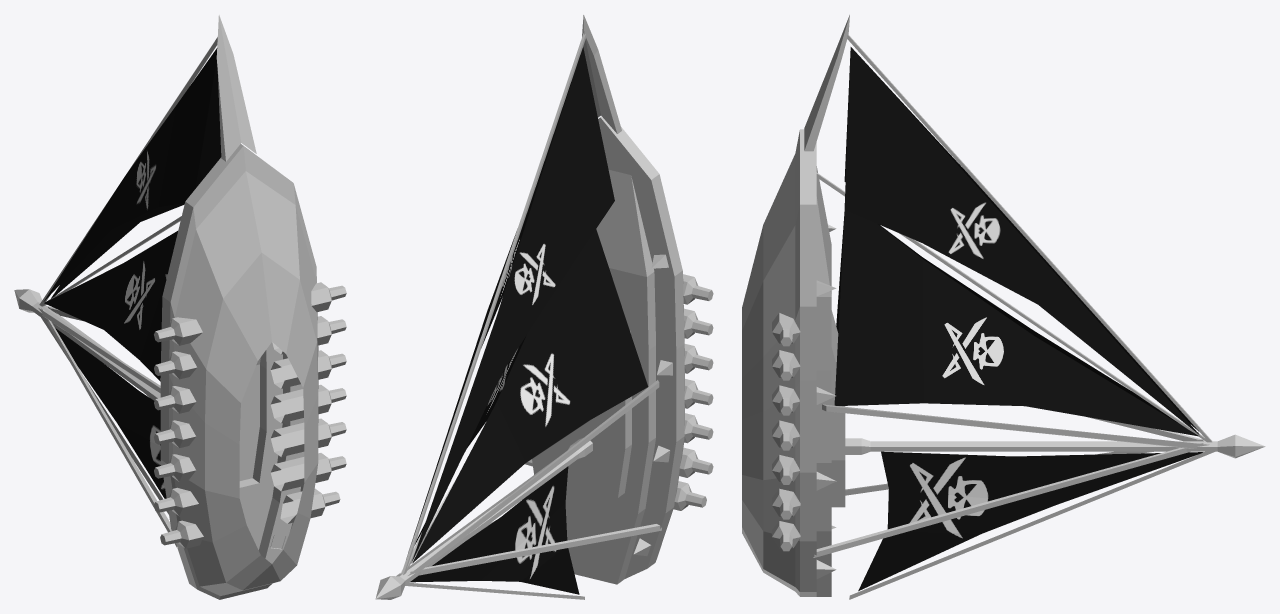
File: pirate_speed_my_9.fbx
3 views of the same model, side by side, from view 1: azimuth 30°, elevation 25°; view 2: azimuth 150°, elevation 25°; view 3: azimuth 270°, elevation 25° (orthographic).
Parts seen in each view (by area): view 1: Cube.245; view 2: Cube.245; view 3: Cube.245.
Boxes of the visible parts, x1,y1,x2,y2 form: Cube.245: [14, 15, 346, 599]; Cube.245: [375, 15, 713, 599]; Cube.245: [742, 15, 1265, 599].
Size of the model in its own units: 210 by 617 by 500.
